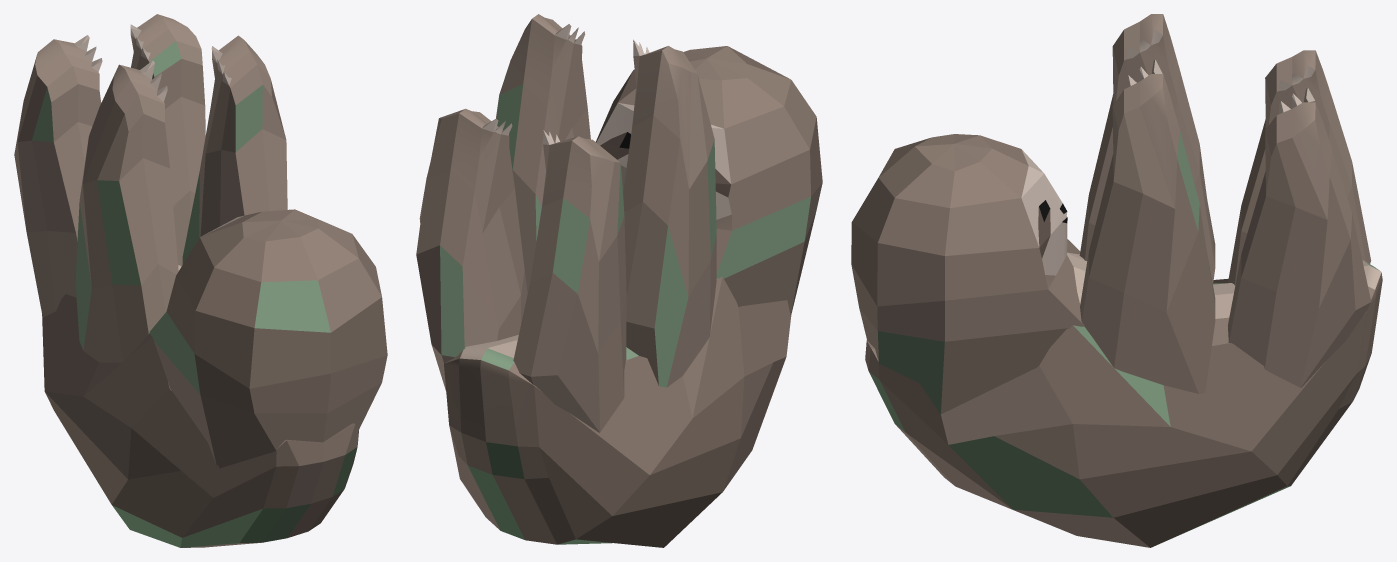
The model's file is Slothbaby0.2.fbx.
3 renders of one model, left to right at view 1: azimuth 30°, elevation 25°; view 2: azimuth 150°, elevation 25°; view 3: azimuth 270°, elevation 25°, orthographic. The views are drawn at different scales.
Parts seen in each view (by area): view 1: pasted__pSphere1, pasted__pCube3, pasted__pCube7, pasted__pCube5, pasted__pCube6, pasted__pCube4; view 2: pasted__pCube3, pasted__pCube7, pasted__pSphere1, pasted__pCube5, pasted__pCube4, pasted__pCube6; view 3: pasted__pCube3, pasted__pSphere1, pasted__pCube6, pasted__pCube4, pasted__pCube7, pasted__pCube5.
Boxes of the visible parts, x1,y1,x2,y2 form: pasted__pSphere1: (149, 209, 387, 468); pasted__pCube3: (42, 265, 358, 547); pasted__pCube7: (75, 60, 178, 362); pasted__pCube5: (14, 35, 102, 317); pasted__pCube6: (182, 35, 287, 264); pasted__pCube4: (130, 14, 205, 265); pasted__pCube3: (444, 276, 791, 547); pasted__pCube7: (623, 39, 716, 387); pasted__pSphere1: (596, 46, 822, 315); pasted__pCube5: (513, 130, 626, 432); pasted__pCube4: (416, 108, 527, 391); pasted__pCube6: (496, 14, 590, 292); pasted__pCube3: (865, 252, 1382, 547); pasted__pSphere1: (851, 134, 1084, 414); pasted__pCube6: (1080, 59, 1215, 393); pasted__pCube4: (1228, 87, 1371, 387); pasted__pCube7: (1079, 14, 1215, 283); pasted__pCube5: (1228, 50, 1371, 285).
Bounding box in the file's own units: 1.72 × 4.13 × 4.18.
